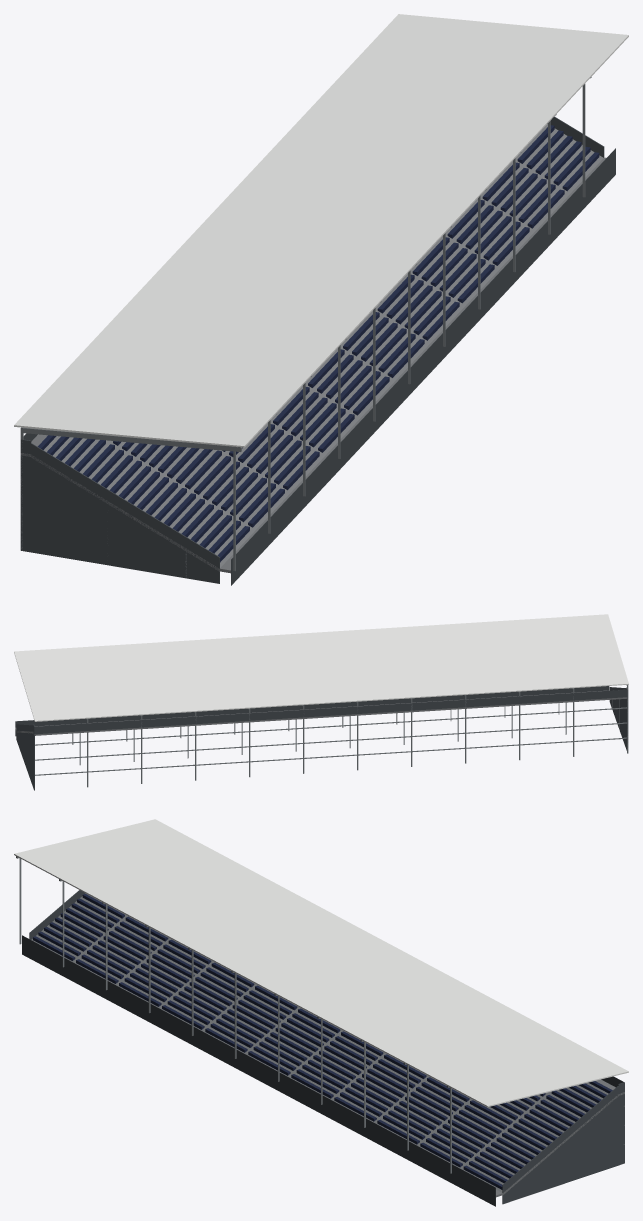
Rendered from sil_stand_woodcote_b.glb.
3 renders of one model, top to bottom at view 1: azimuth 30°, elevation 25°; view 2: azimuth 150°, elevation 25°; view 3: azimuth 270°, elevation 25°, orthographic. The views are drawn at different scales.
Visible parts, largest first — view 1: silverstone-woodcote-b; view 2: silverstone-woodcote-b; view 3: silverstone-woodcote-b.
Part boxes in pixels (x1,y1,x2,y2): silverstone-woodcote-b: (14,14,628,585); silverstone-woodcote-b: (14,614,628,790); silverstone-woodcote-b: (14,819,628,1206).
Bounding box in the file's own units: 80.54 × 12.96 × 69.86.
